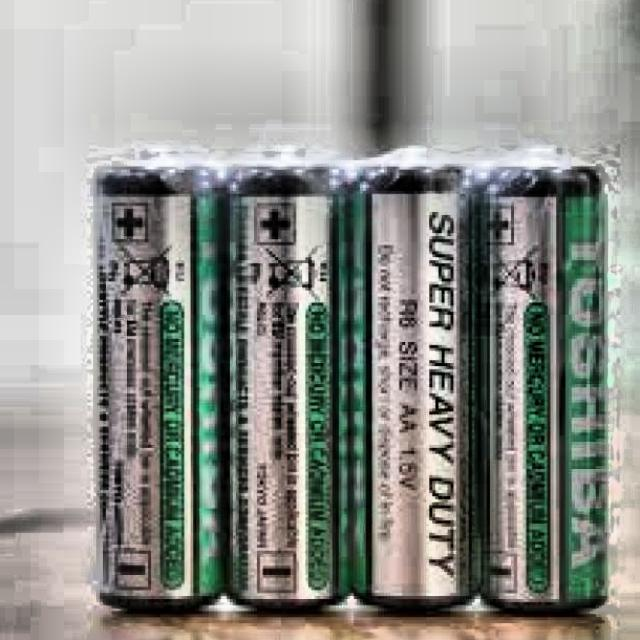Non-Valuable Waste - Batteries: (470, 148, 609, 611), (97, 147, 229, 608), (346, 148, 474, 602), (221, 147, 341, 612)
